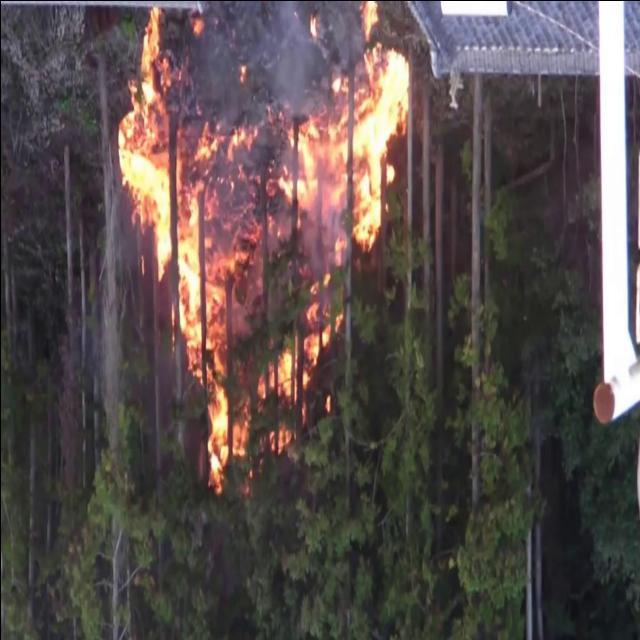Fire: (117, 7, 230, 497), (271, 43, 409, 265), (233, 273, 343, 487), (226, 124, 257, 160), (360, 0, 380, 40)
